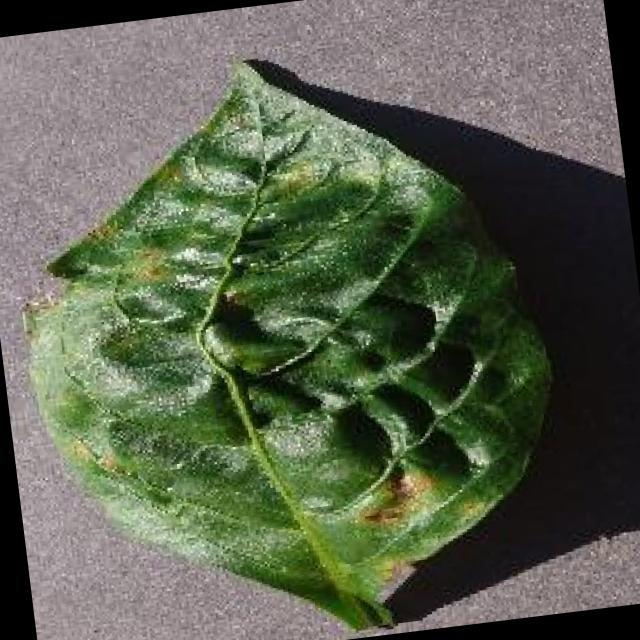Chilli_Bacterial_Spot: (0, 21, 584, 640), (188, 280, 312, 388), (346, 458, 440, 536), (260, 154, 328, 206)
